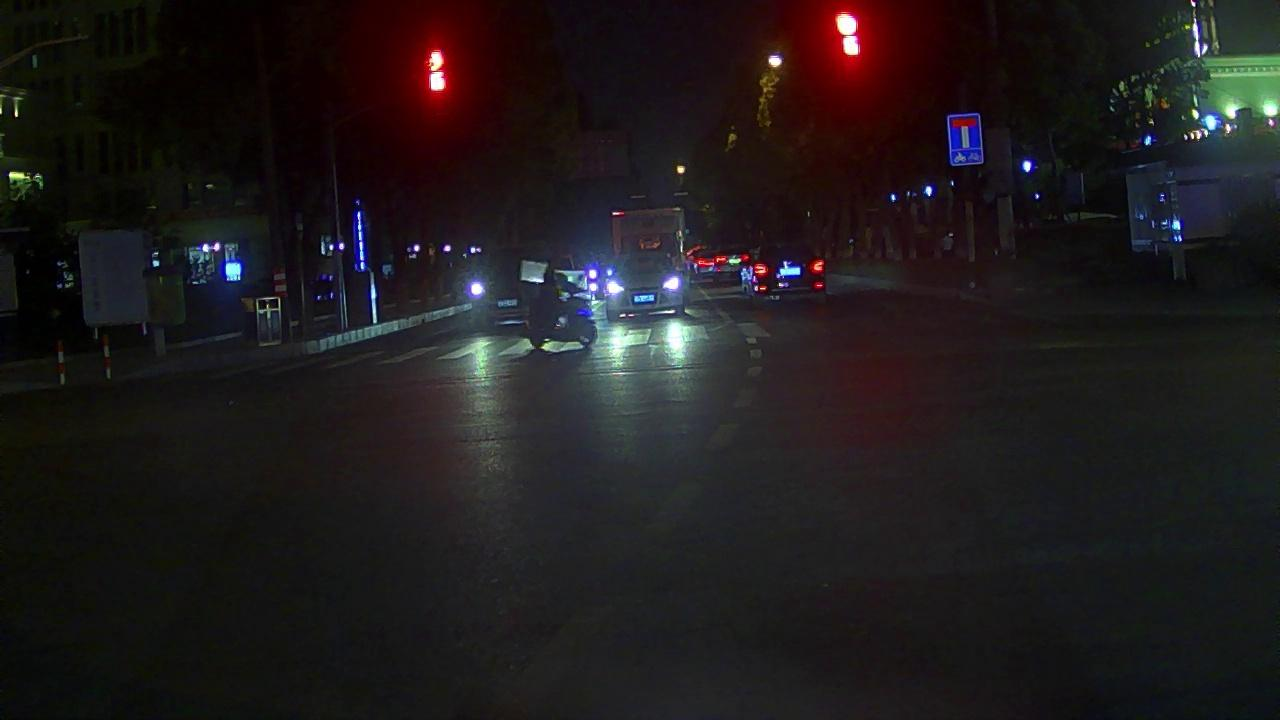traffic_light: (830, 8, 866, 72), (421, 39, 453, 101)
